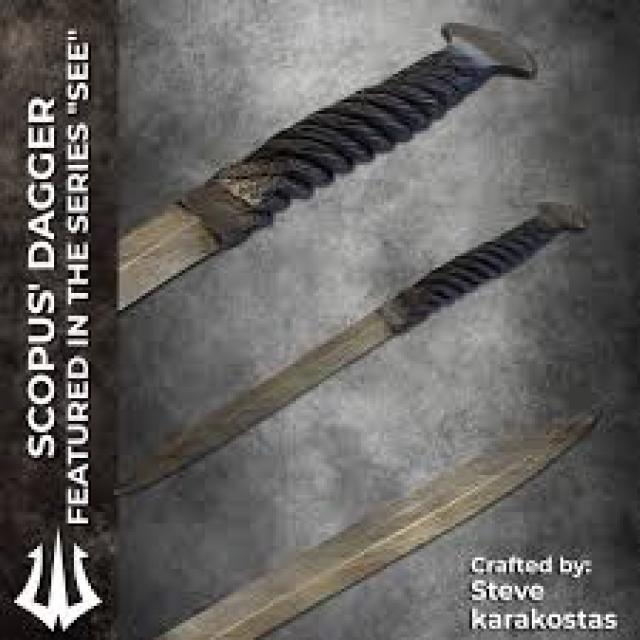Gun: (97, 193, 631, 590)
